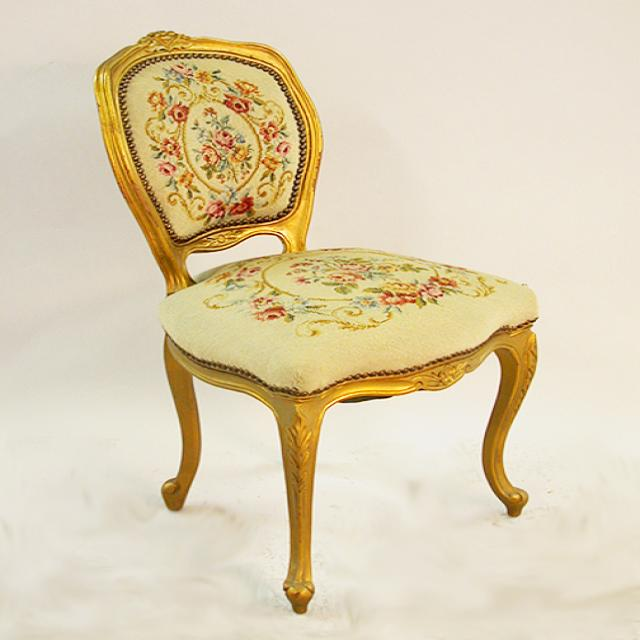chair: (92, 28, 529, 616)
